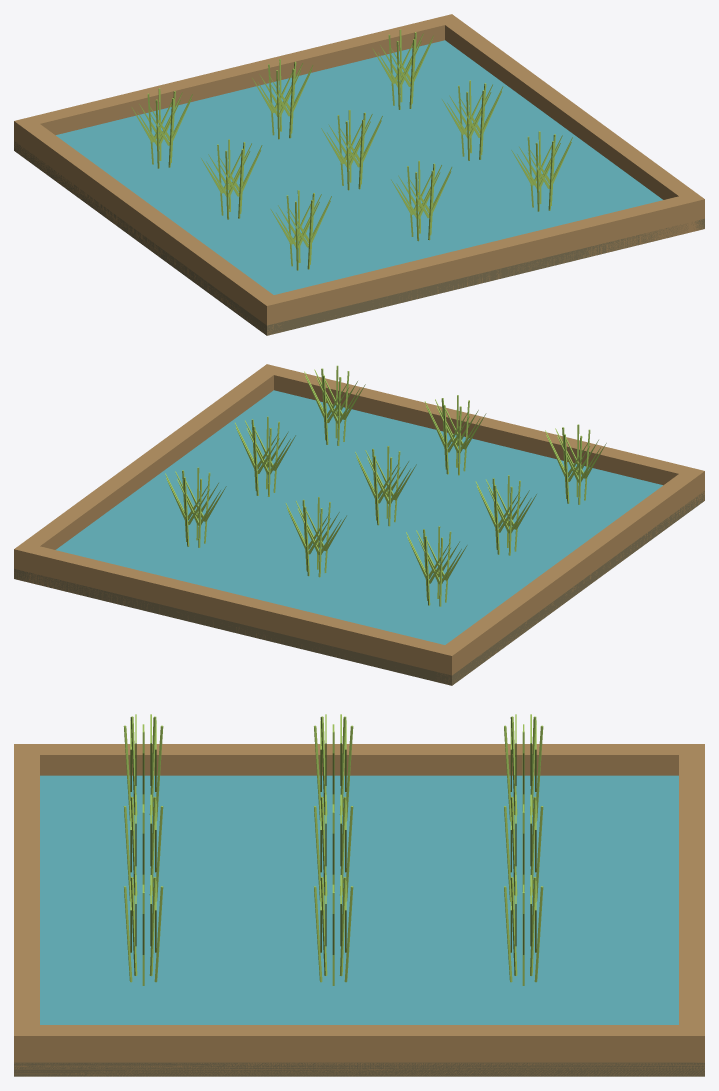
Rendered from TR3_FloodedPaddy_Planted_4x4.glb.
The picture shows the model from 3 angles, top to bottom: view 1: azimuth 30°, elevation 25°; view 2: azimuth 150°, elevation 25°; view 3: azimuth 270°, elevation 25°; orthographic projection. The views are drawn at different scales.
Parts seen in each view (by area): view 1: TR3_FloodedPaddy_Planted_4x4; view 2: TR3_FloodedPaddy_Planted_4x4; view 3: TR3_FloodedPaddy_Planted_4x4.
Boxes of the visible parts, x1,y1,x2,y2 form: TR3_FloodedPaddy_Planted_4x4: (14, 14, 704, 335); TR3_FloodedPaddy_Planted_4x4: (14, 364, 704, 685); TR3_FloodedPaddy_Planted_4x4: (14, 714, 704, 1076).
Bounding box in the file's own units: 4 × 0.7404 × 4.
